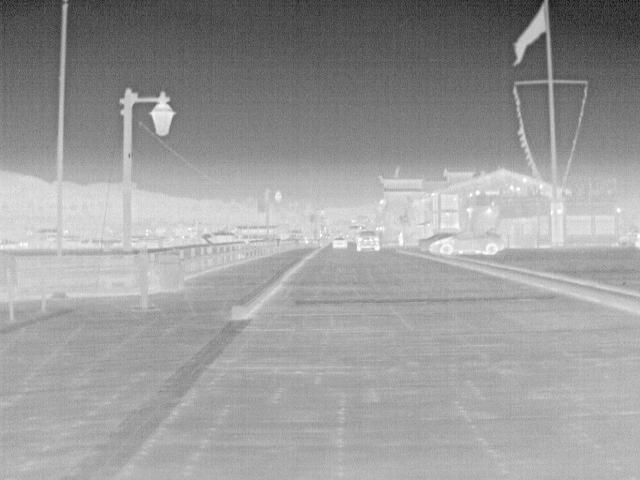car: (425, 228, 508, 255), (352, 228, 382, 255), (418, 233, 456, 253), (331, 236, 351, 252)
person: (397, 228, 405, 247)
